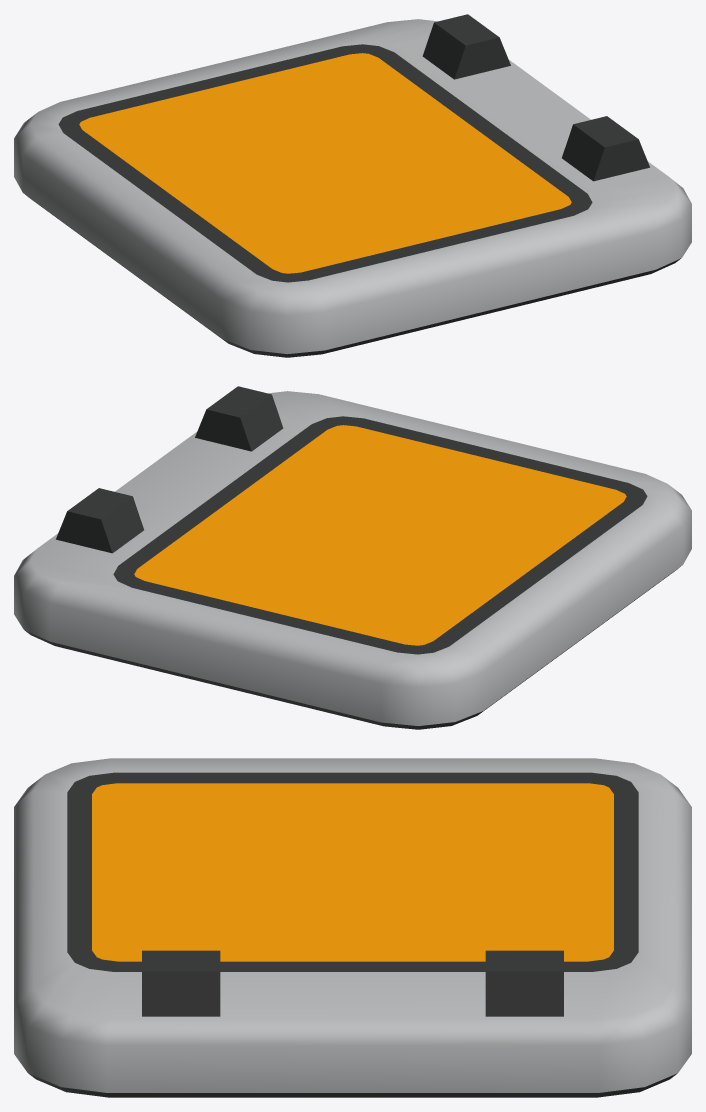
The model's file is Laptop_002_Monitor_002.fbx.
3 views of the same model, one above another, from view 1: azimuth 30°, elevation 25°; view 2: azimuth 150°, elevation 25°; view 3: azimuth 270°, elevation 25° (orthographic). The views are drawn at different scales.
Visible parts, largest first — view 1: Laptop_002_Monitor_002; view 2: Laptop_002_Monitor_002; view 3: Laptop_002_Monitor_002.
Part boxes in pixels (x1,y1,x2,y2): Laptop_002_Monitor_002: (14,14,691,357); Laptop_002_Monitor_002: (14,386,691,729); Laptop_002_Monitor_002: (14,758,691,1097).
Bounding box in the file's own units: 25.75 × 26.58 × 4.86.
